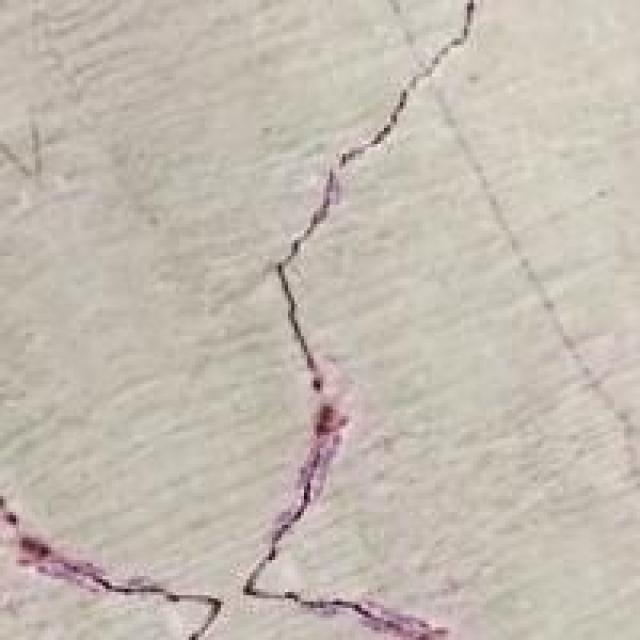Crack: (4, 0, 486, 637)
